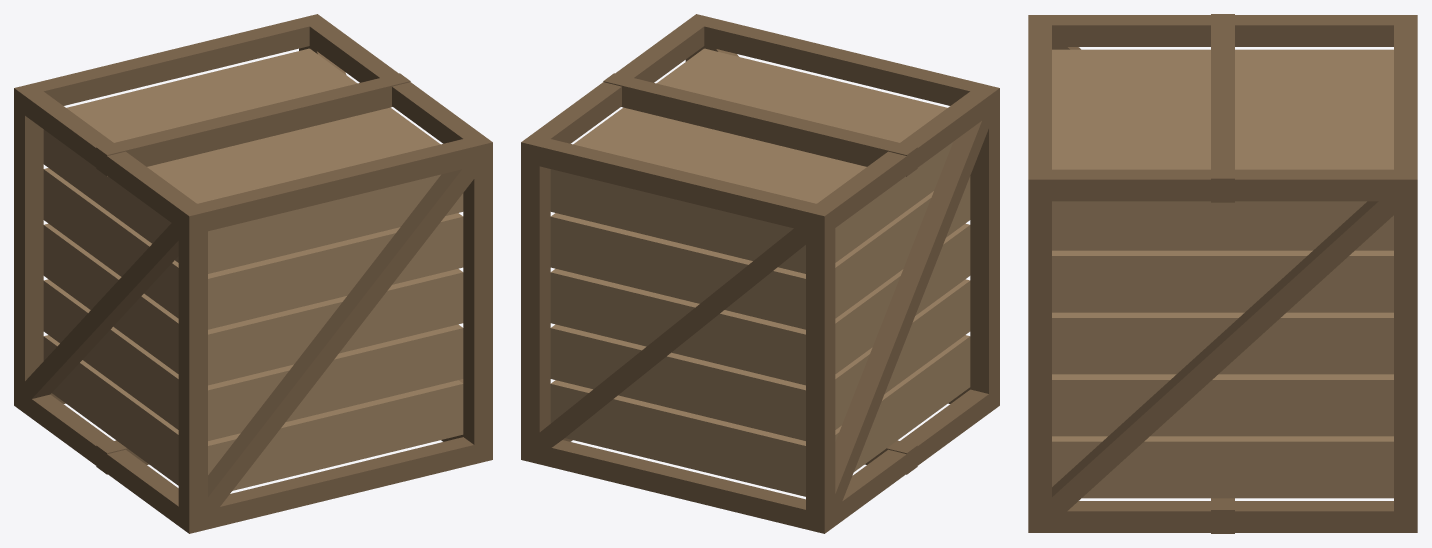
Rendered from SM_Crate_Small.fbx.
3 renders of one model, left to right at view 1: azimuth 30°, elevation 25°; view 2: azimuth 150°, elevation 25°; view 3: azimuth 270°, elevation 25°, orthographic. The views are drawn at different scales.
Visible parts, largest first — view 1: SM_Crate_Small; view 2: SM_Crate_Small; view 3: SM_Crate_Small.
Part boxes in pixels (x1,y1,x2,y2): SM_Crate_Small: (14, 14, 492, 533); SM_Crate_Small: (521, 14, 999, 533); SM_Crate_Small: (1028, 14, 1417, 533).
Bounding box in the file's own units: 130 × 131 × 130.
